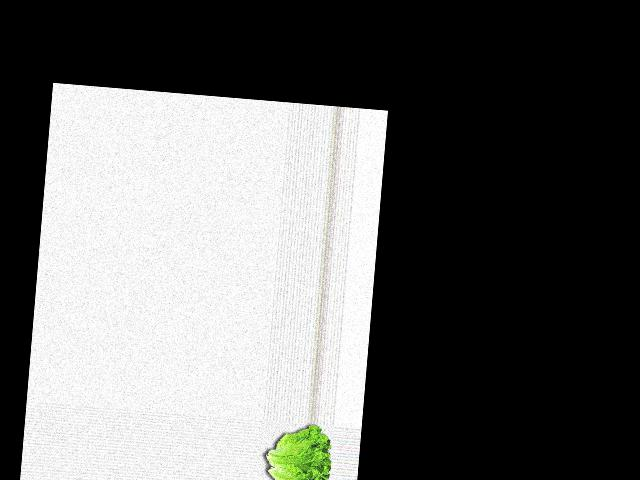lettuce: (260, 422, 333, 480)
